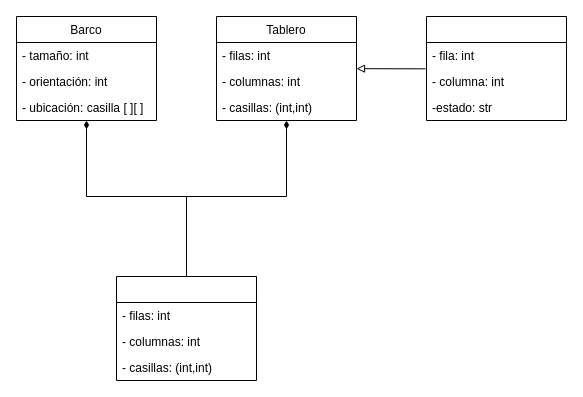
The diagram is 583 pixels wide and 397 high, and some of its shapes have lost their labels. Each missing label, with the box of its shape:
Case: (426, 16, 566, 120)
conventions: (116, 276, 256, 380)
